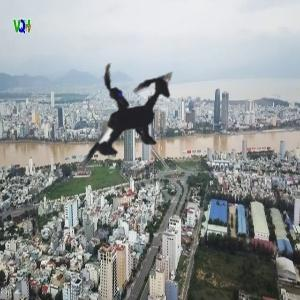drone: (24, 18, 223, 217)
